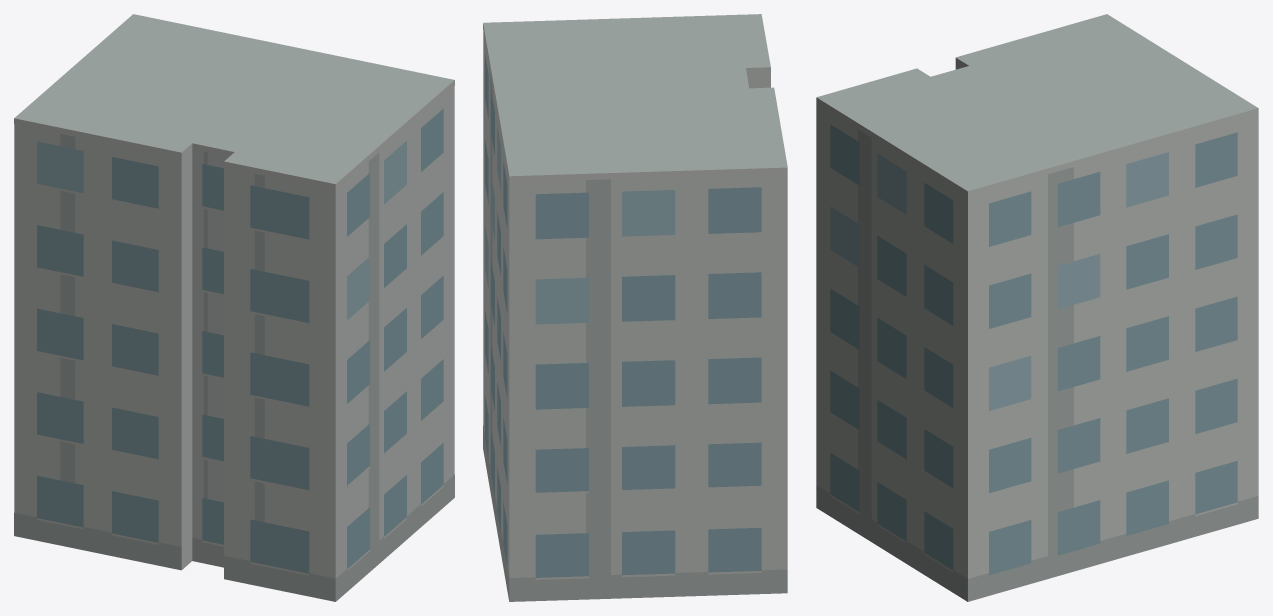
File: survey-upis-32851925.glb
3 views of the same model, side by side, from view 1: azimuth 30°, elevation 25°; view 2: azimuth 150°, elevation 25°; view 3: azimuth 270°, elevation 25° (orthographic). The views are drawn at different scales.
Visible parts, largest first — view 1: survey-upis-32851925.tmp; view 2: survey-upis-32851925.tmp; view 3: survey-upis-32851925.tmp.
Part boxes in pixels (x1=…): survey-upis-32851925.tmp: x1=14, y1=14, x2=454, y2=601; survey-upis-32851925.tmp: x1=483, y1=14, x2=787, y2=601; survey-upis-32851925.tmp: x1=816, y1=14, x2=1258, y2=601.
Size of the model in its own units: 15.57 by 16.8 by 16.41.
